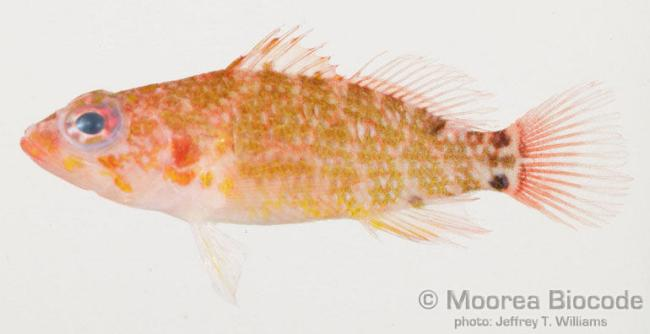fish: (19, 24, 632, 307)
